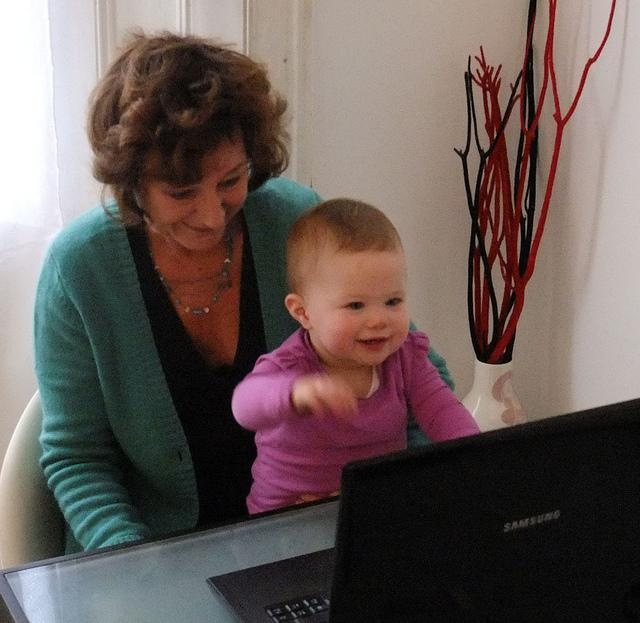person: (34, 25, 453, 533), (230, 196, 507, 509)
